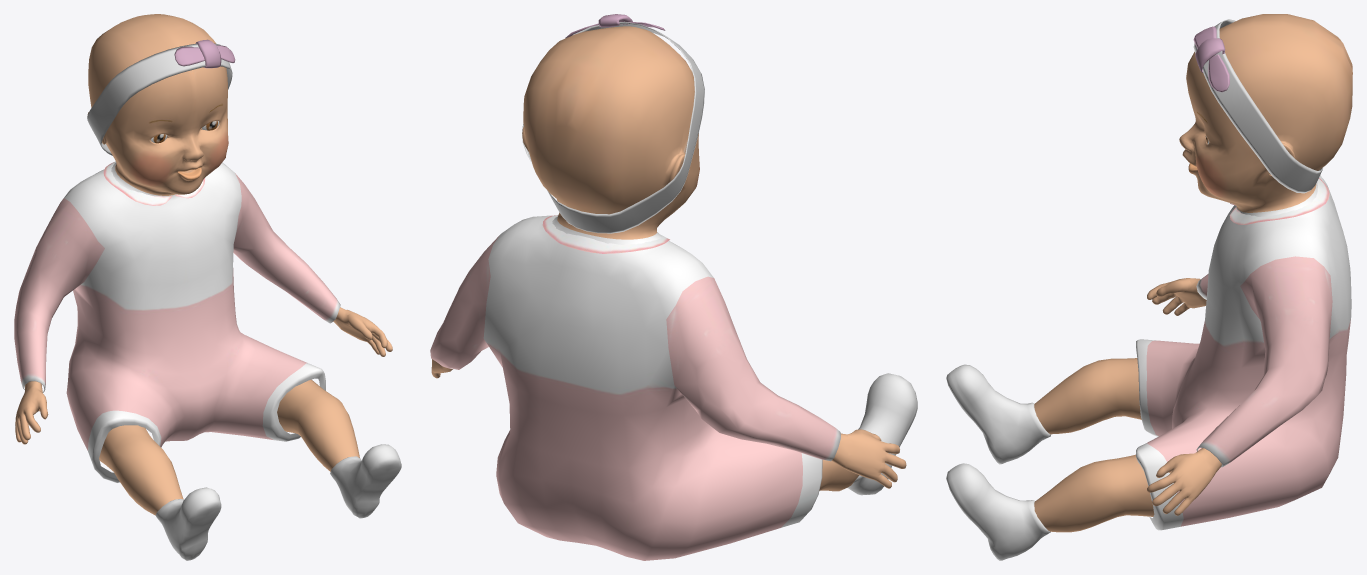
The model's file is sweethome3d-scopia-doll-196.glb.
The picture shows the model from 3 angles, left to right: view 1: azimuth 30°, elevation 25°; view 2: azimuth 150°, elevation 25°; view 3: azimuth 270°, elevation 25°; orthographic projection. The views are drawn at different scales.
Visible parts, largest first — view 1: Plane, Plane.001; view 2: Plane, Plane.001; view 3: Plane, Plane.001.
Boxes of the visible parts, box(x1,y1,x2,y2) form: Plane: box(14, 14, 401, 560); Plane.001: box(87, 39, 235, 155); Plane: box(430, 26, 917, 560); Plane.001: box(522, 14, 704, 233); Plane: box(946, 14, 1352, 560); Plane.001: box(1193, 19, 1323, 193).
Size of the model in its own units: 14.39 by 16.01 by 12.08.
Materials: 3 (1 with a texture image).
